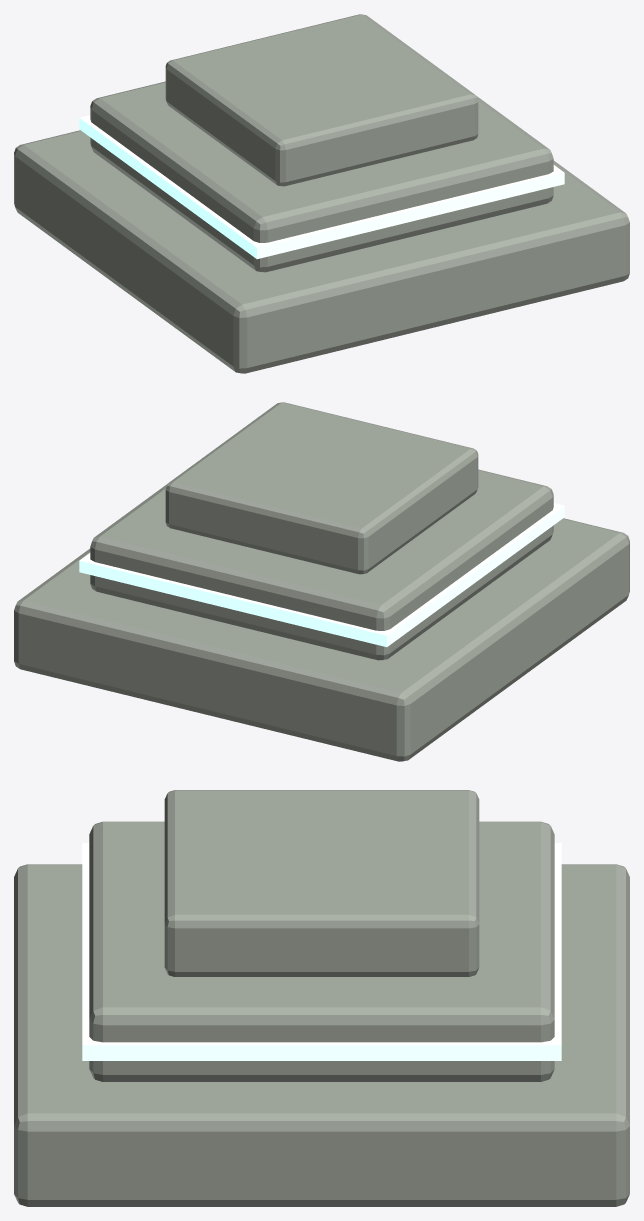
Rendered from Altar.fbx.
3 renders of one model, top to bottom at view 1: azimuth 30°, elevation 25°; view 2: azimuth 150°, elevation 25°; view 3: azimuth 270°, elevation 25°, orthographic. The views are drawn at different scales.
Parts seen in each view (by area): view 1: Altar; view 2: Altar; view 3: Altar.
Boxes of the visible parts, x1,y1,x2,y2 form: Altar: (14,14,629,373); Altar: (14,402,629,761); Altar: (14,790,629,1206).
Size of the model in its own units: 1.8 by 0.74 by 1.8.
